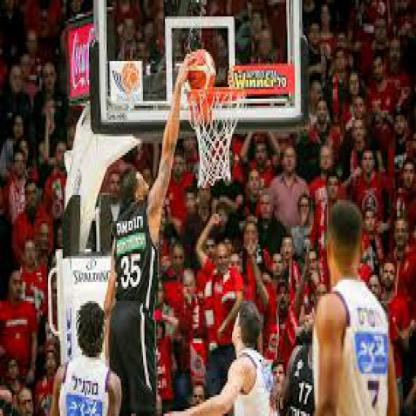basketball: (187, 49, 216, 97)
rim: (186, 84, 249, 104)
